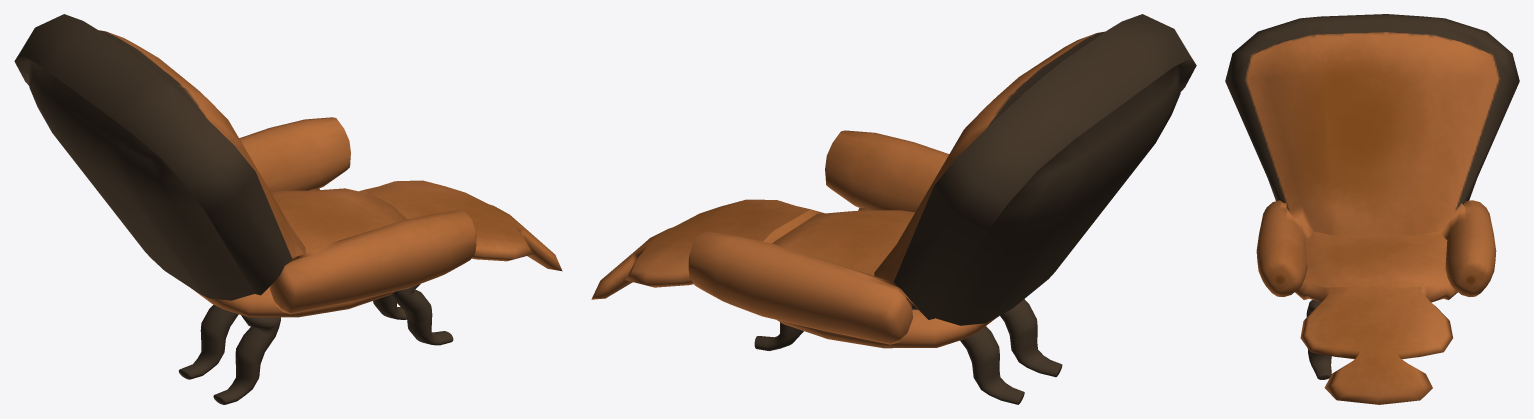
Rendered from recliner.fbx.
The picture shows the model from 3 angles, left to right: view 1: azimuth 30°, elevation 25°; view 2: azimuth 150°, elevation 25°; view 3: azimuth 270°, elevation 25°; orthographic projection. The views are drawn at different scales.
Visible parts, largest first — view 1: polySurface419; view 2: polySurface419; view 3: polySurface419.
Part boxes in pixels (x1,y1,x2,y2): polySurface419: [14, 14, 562, 404]; polySurface419: [591, 14, 1196, 404]; polySurface419: [1225, 14, 1519, 404].
Size of the model in its own units: 2.1 by 1.46 by 1.52.
Materials: 1 (1 with a texture image).
